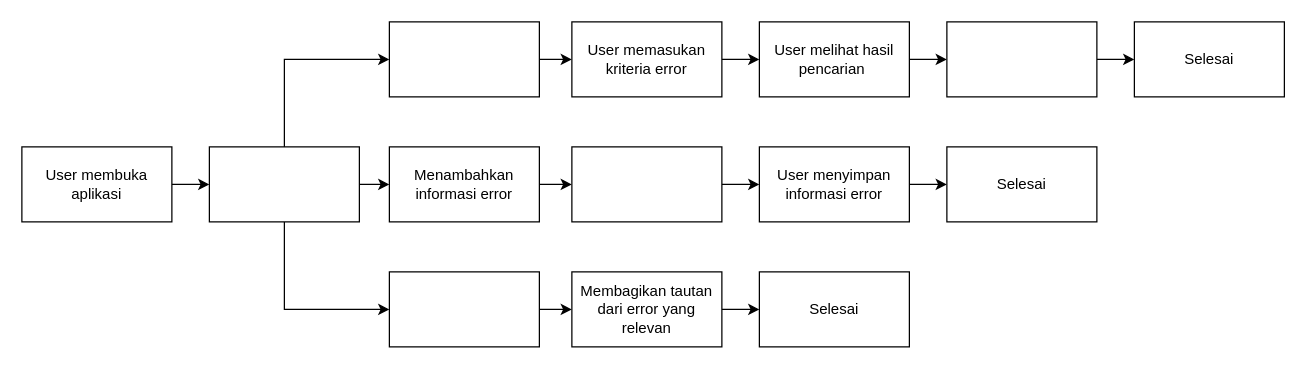
Some shapes in this 1306 by 369 pixel diagram are drawn without their labels. The centre of each missing label's shape, as x and y in pixels:
Berbagi Informasi error: (463,309)
Memilih opsi yang ingin dilakukan: (283,184)
Mencari informasi error: (463,59)
User melihat detail error: (1021,59)
User memasukan informasi error: (646,184)
